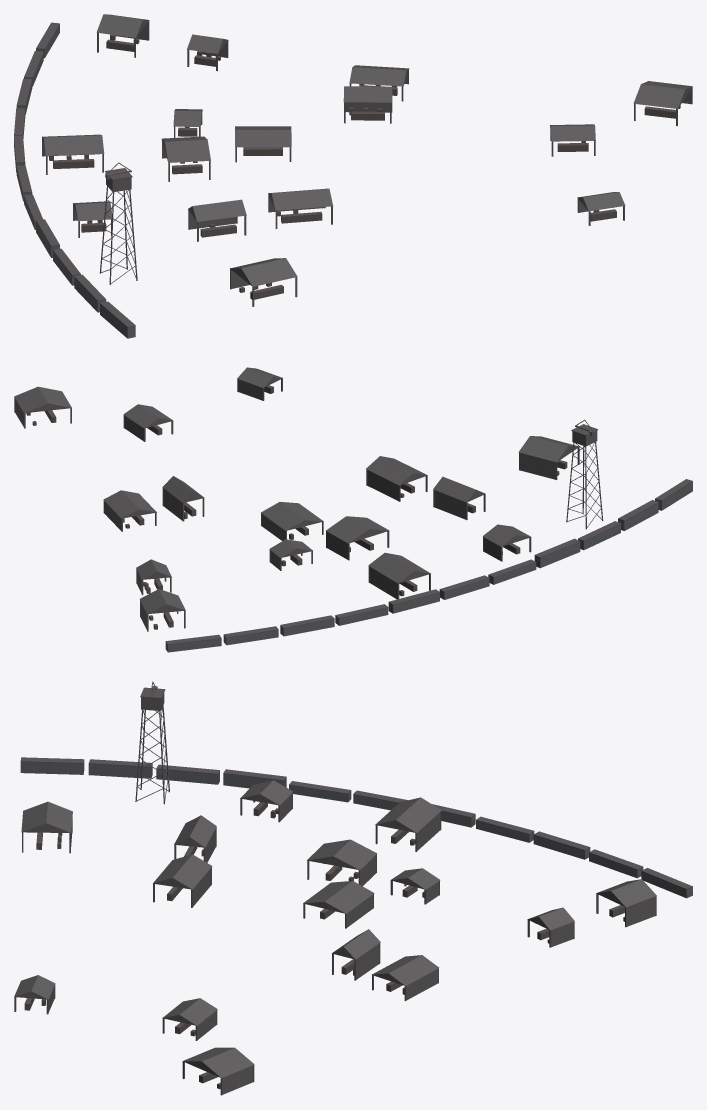
The model's file is SM_City_MarsaAlFajr_3.fbx.
3 renders of one model, top to bottom at view 1: azimuth 30°, elevation 25°; view 2: azimuth 150°, elevation 25°; view 3: azimuth 270°, elevation 25°, orthographic. The views are drawn at different scales.
Parts seen in each view (by area): view 1: SM_City_MarsaAlFajr_3; view 2: SM_City_MarsaAlFajr_3; view 3: SM_City_MarsaAlFajr_3.
Part boxes in pixels (box(x1,y1,x2,y2)): SM_City_MarsaAlFajr_3: box(14, 14, 692, 338); SM_City_MarsaAlFajr_3: box(14, 367, 692, 652); SM_City_MarsaAlFajr_3: box(14, 681, 692, 1095).
Size of the model in its own units: 10133 by 1670 by 8905.
Materials: 4 (4 with a texture image).
